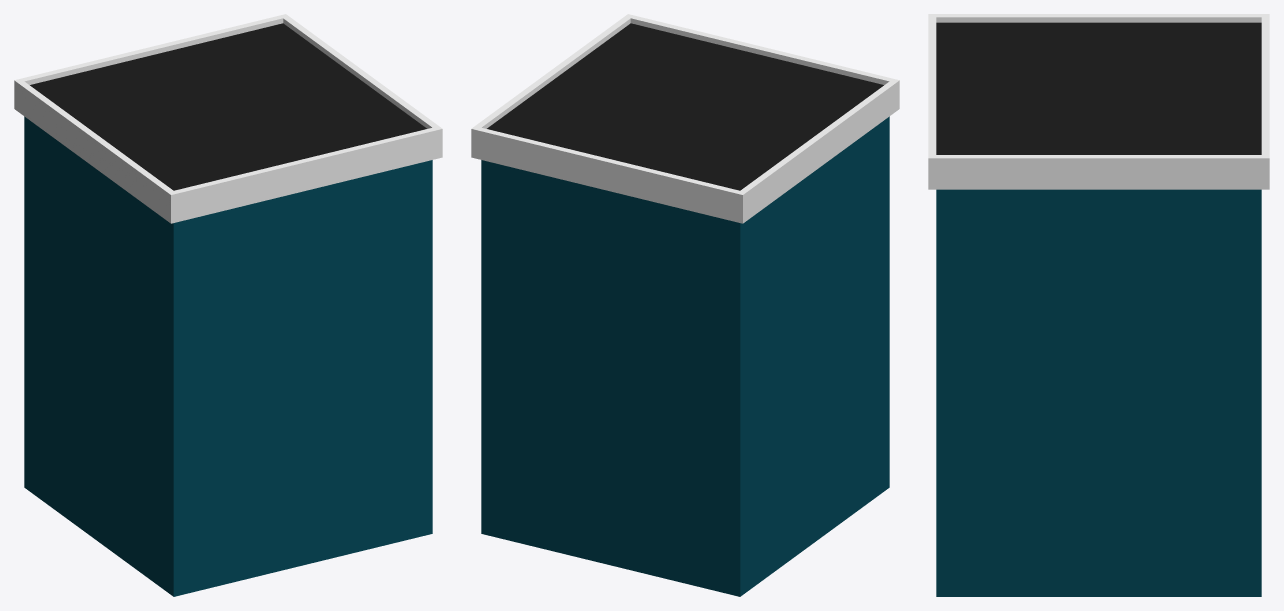
The model's file is Building.fbx.
The picture shows the model from 3 angles, left to right: view 1: azimuth 30°, elevation 25°; view 2: azimuth 150°, elevation 25°; view 3: azimuth 270°, elevation 25°; orthographic projection. The views are drawn at different scales.
Visible parts, largest first — view 1: Object001, Box001, Object002; view 2: Object001, Box001, Object002; view 3: Object001, Box001, Object002.
Part boxes in pixels (x1,y1,x2,y2): Object001: [24, 116, 432, 596]; Box001: [30, 23, 426, 190]; Object002: [14, 14, 442, 223]; Object001: [481, 116, 889, 596]; Box001: [487, 23, 883, 190]; Object002: [471, 14, 899, 223]; Object001: [936, 189, 1261, 596]; Box001: [936, 22, 1261, 154]; Object002: [928, 14, 1269, 189].
Size of the model in its own units: 1.05 by 1.5 by 1.05.
